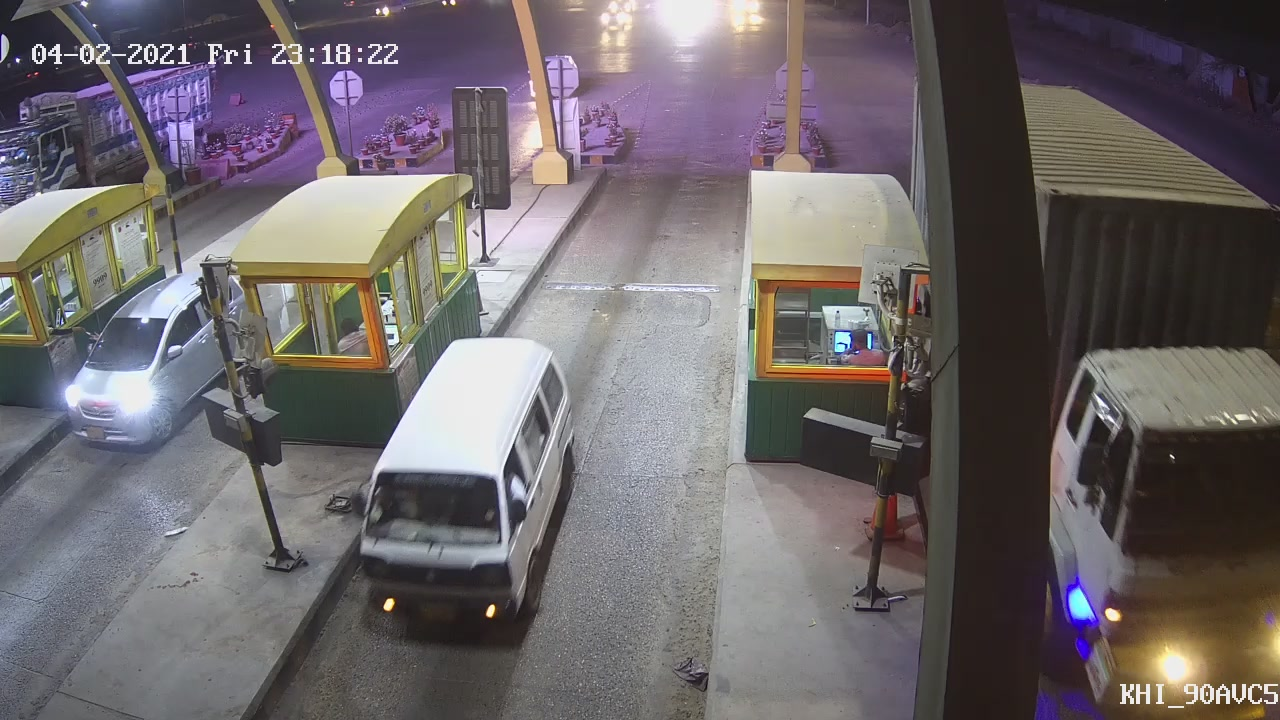F2: (358, 334, 586, 635)
